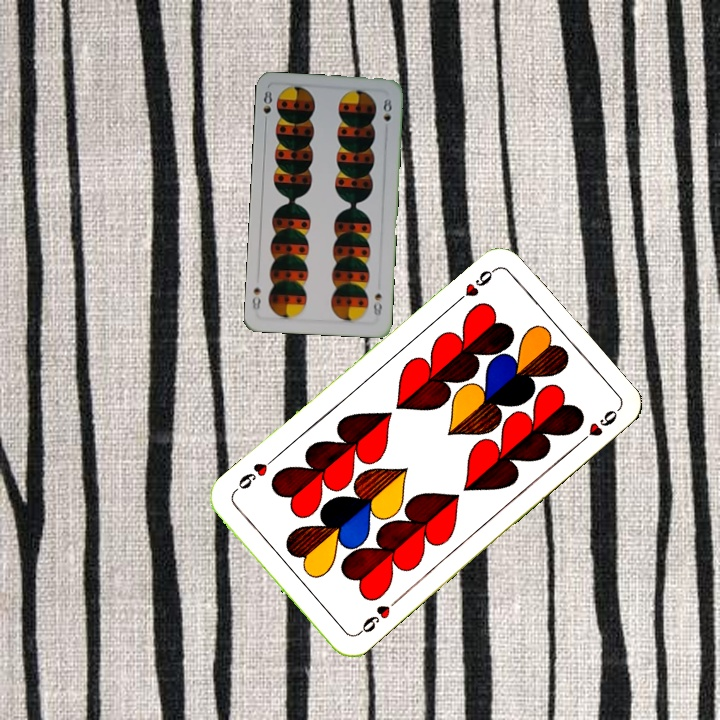H9: (352, 595, 401, 639), (450, 264, 498, 308)
S8: (259, 87, 275, 127), (369, 289, 384, 318)
